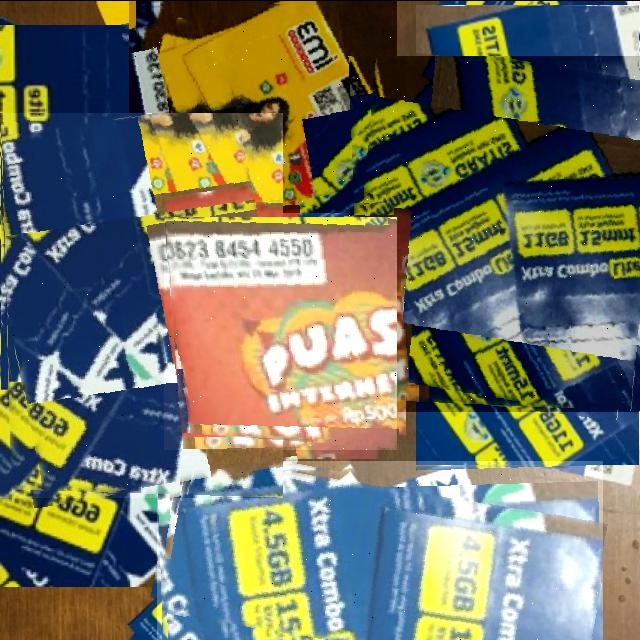Gratis Nelpon: (0, 112, 283, 497), (348, 55, 640, 411), (157, 460, 603, 640)
PUAS: (164, 216, 397, 449)
im3: (129, 0, 397, 212)
